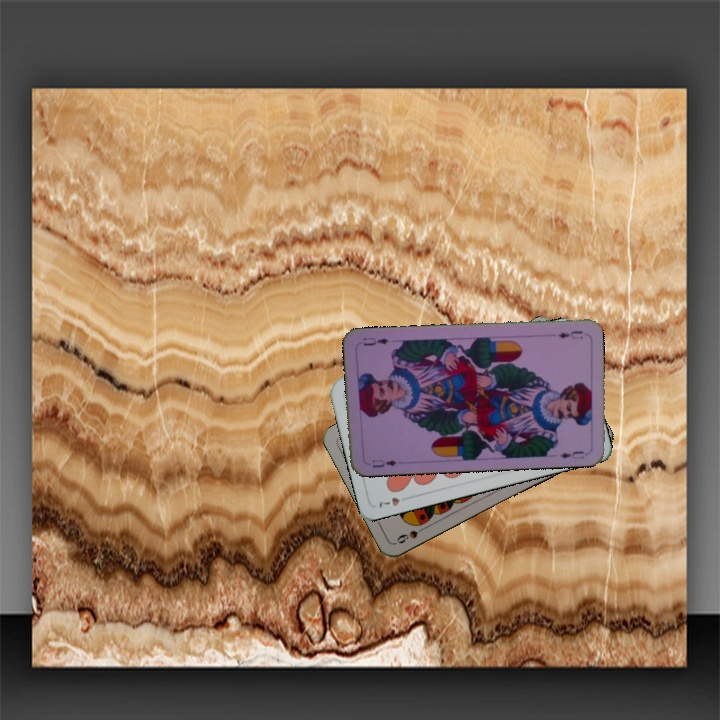EU: (368, 455, 400, 470), (554, 326, 585, 341)
H7: (375, 492, 413, 510)
S9: (393, 521, 430, 546)
